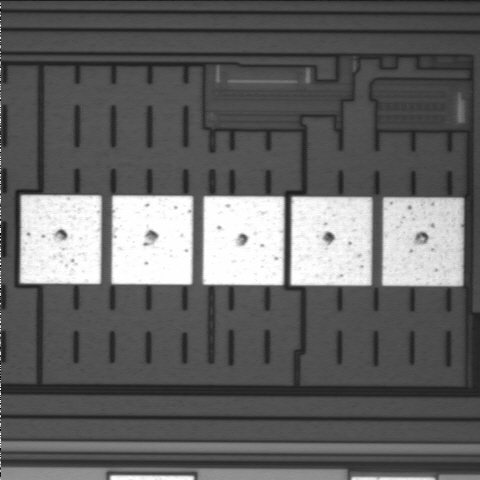pad: (111, 196, 193, 285), (20, 195, 101, 284), (203, 196, 284, 285), (291, 197, 372, 286), (382, 198, 463, 286)
